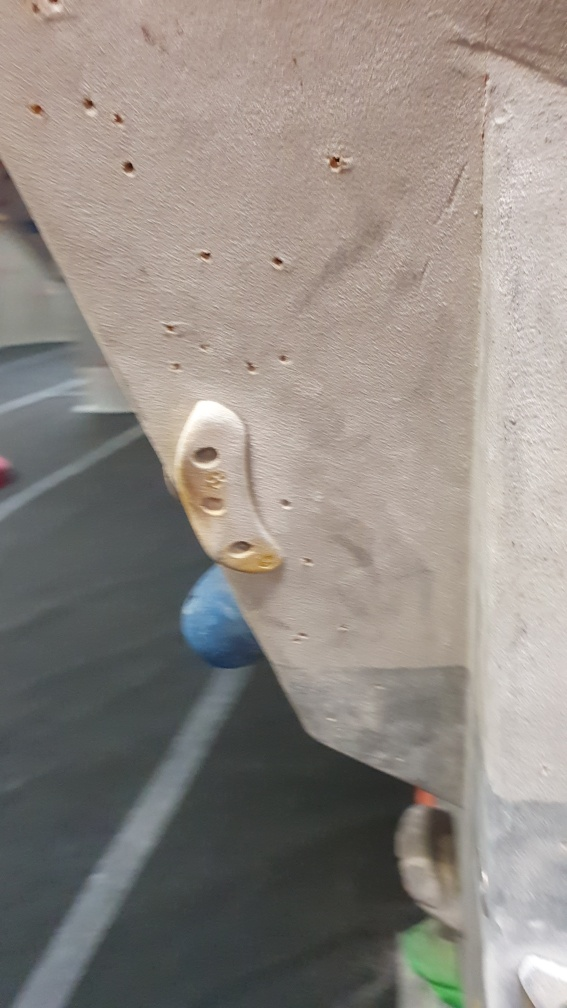Crimp: (170, 400, 285, 577)
Jug: (391, 799, 475, 935)
Sloper: (174, 562, 266, 675)
